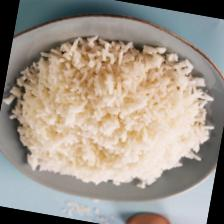rice: (0, 21, 224, 202)
